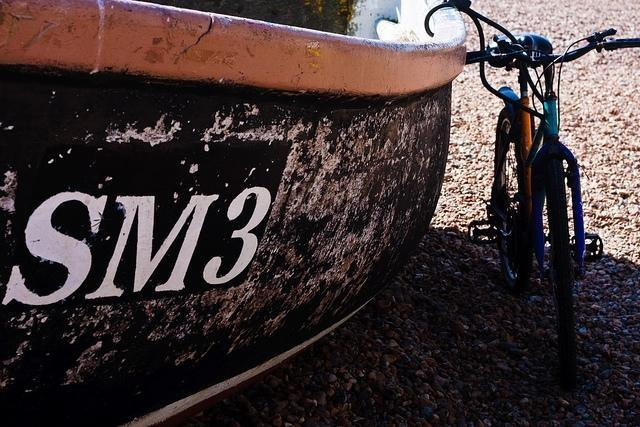bicycle: (424, 1, 640, 393)
